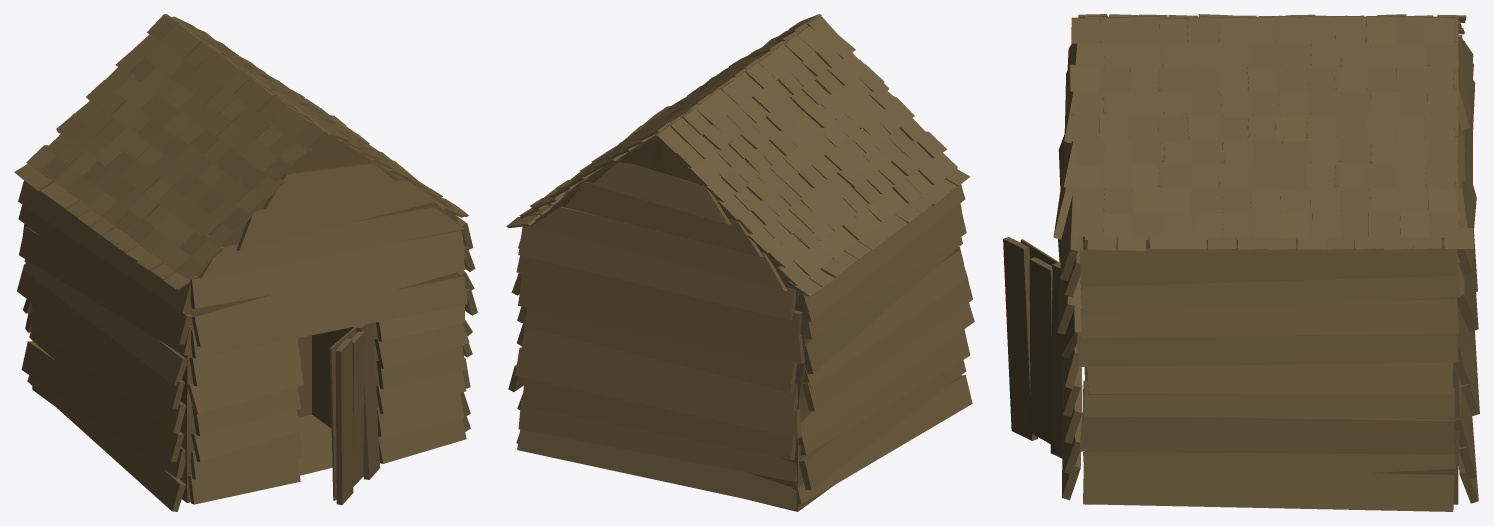
File: Hut.fbx
3 views of the same model, side by side, from view 1: azimuth 30°, elevation 25°; view 2: azimuth 150°, elevation 25°; view 3: azimuth 270°, elevation 25° (orthographic). The views are drawn at different scales.
Visible parts, largest first — view 1: Cube.317; view 2: Cube.317; view 3: Cube.317.
Boxes of the visible parts, <box> form: Cube.317: <box>14,14,477,511</box>; Cube.317: <box>506,14,974,511</box>; Cube.317: <box>1003,14,1479,511</box>.
Bounding box in the file's own units: 225 × 248 × 254.
